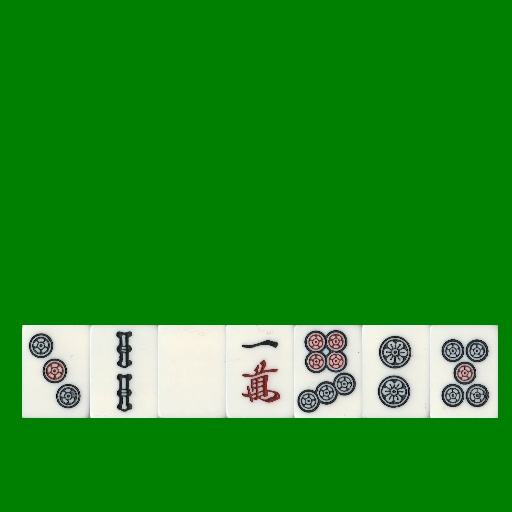1m: (226, 325, 294, 418)
2p: (362, 325, 430, 418)
2s: (90, 325, 158, 418)
3p: (22, 325, 90, 418)
5p: (430, 325, 498, 418)
7p: (294, 325, 362, 418)
white: (158, 325, 226, 418)
